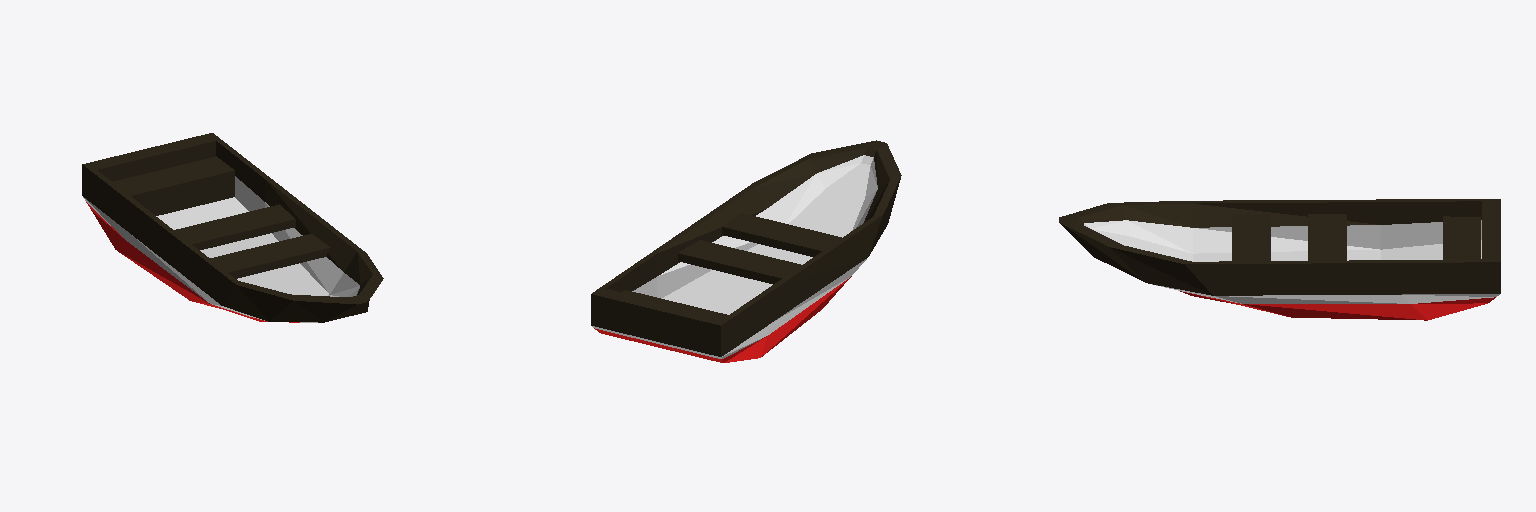
The model's file is boat.obj.
The picture shows the model from 3 angles: view 1: azimuth 30°, elevation 25°; view 2: azimuth 150°, elevation 25°; view 3: azimuth 270°, elevation 25°; orthographic projection.
Parts seen in each view (by area): view 1: 立方体, 立方体.3, 立方体.2, 立方体.1; view 2: 立方体, 立方体.2, 立方体.1; view 3: 立方体, 立方体.2, 立方体.1, 立方体.3.
Boxes of the visible parts, <box> form: 立方体: <box>82,133,383,322</box>; 立方体.3: <box>113,156,234,215</box>; 立方体.2: <box>174,204,295,249</box>; 立方体.1: <box>210,234,330,278</box>; 立方体: <box>591,140,901,362</box>; 立方体.2: <box>678,240,801,284</box>; 立方体.1: <box>722,213,841,256</box>; 立方体: <box>1059,199,1500,320</box>; 立方体.2: <box>1308,214,1346,260</box>; 立方体.1: <box>1232,214,1270,260</box>; 立方体.3: <box>1443,216,1480,259</box>.
Bounding box in the file's own units: 207 × 101 × 587.